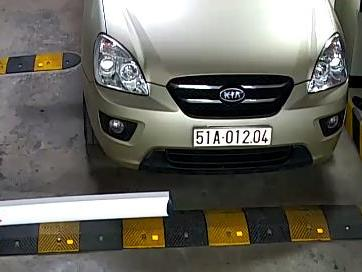number: (193, 125, 273, 149)
